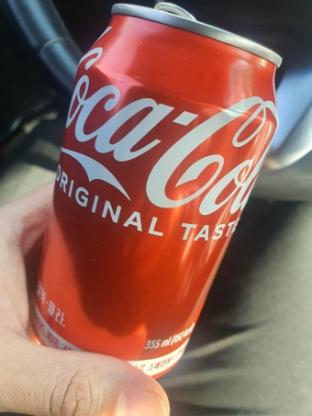Can: (25, 0, 283, 382)
